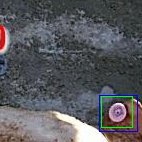text: (101, 96, 132, 127)
